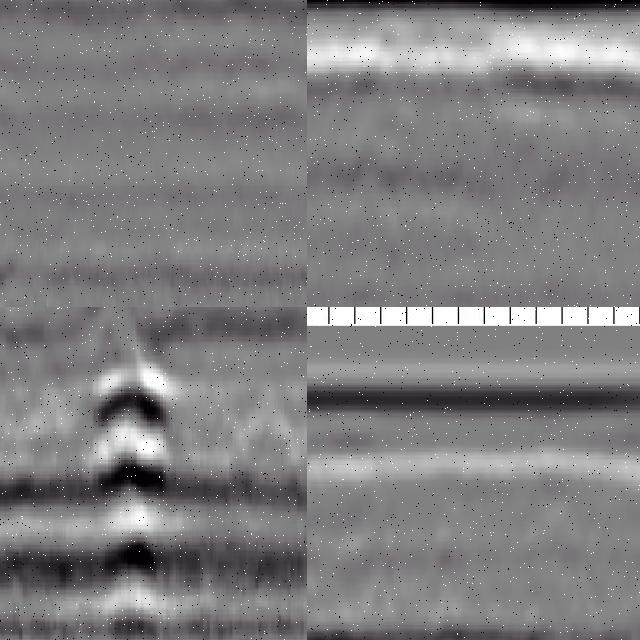crack: (91, 309, 167, 640), (1, 1, 23, 272)
